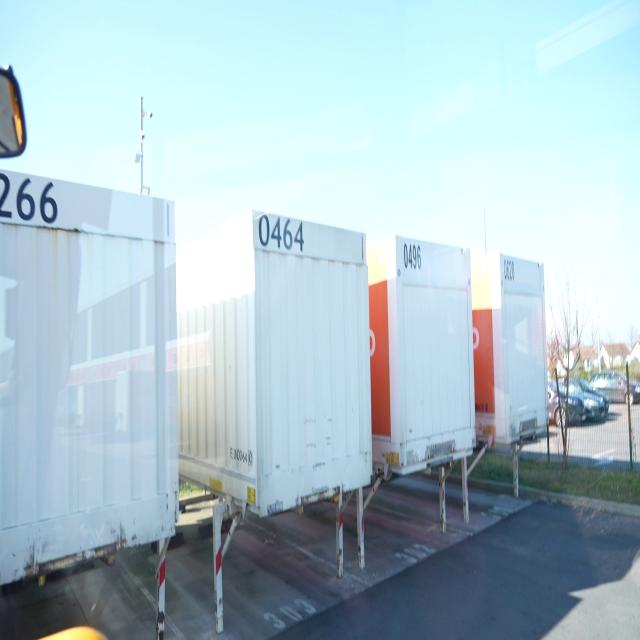Code: (254, 206, 309, 263), (400, 236, 429, 274), (497, 254, 520, 288)
